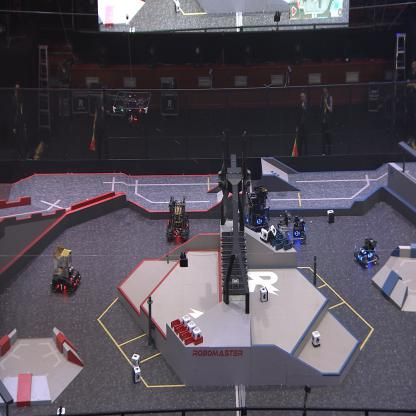car: (50, 243, 80, 294), (243, 185, 271, 235), (166, 194, 190, 244), (275, 209, 295, 254), (354, 237, 379, 268), (289, 213, 307, 245)
